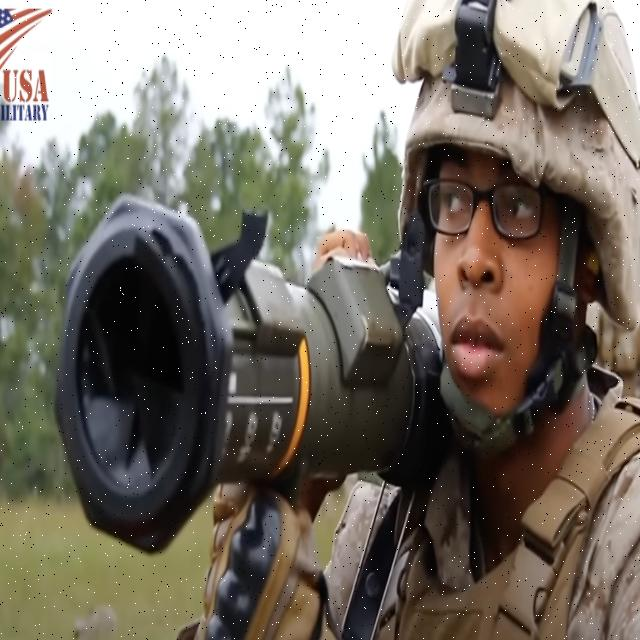bazooka: (27, 139, 479, 586)
